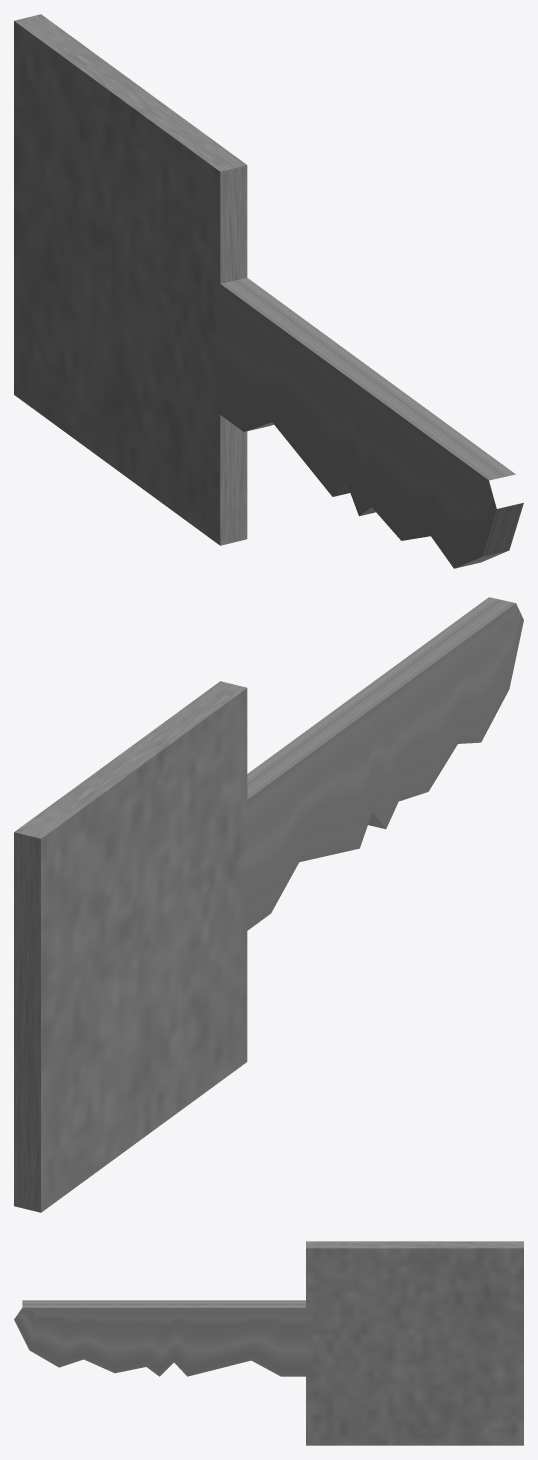
Rendered from Key.glb.
The picture shows the model from 3 angles, top to bottom: view 1: azimuth 30°, elevation 25°; view 2: azimuth 150°, elevation 25°; view 3: azimuth 270°, elevation 25°; orthographic projection. The views are drawn at different scales.
Visible parts, largest first — view 1: Cube; view 2: Cube; view 3: Cube.
Part boxes in pixels (x1,y1,x2,y2): Cube: (14,14,523,568); Cube: (14,597,523,1212); Cube: (14,1241,523,1445).
Bounding box in the file's own units: 0.0548 × 0.7216 × 1.69.
1 material, 1 textured.
